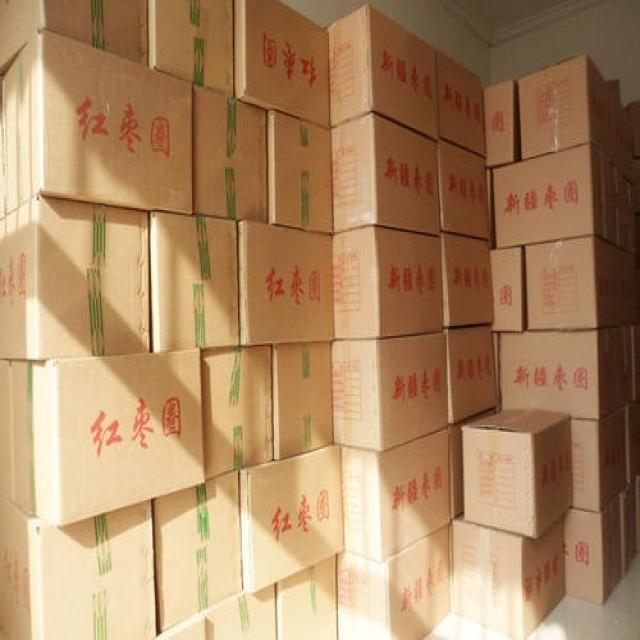box: (0, 29, 193, 217), (13, 350, 206, 527), (0, 196, 148, 360), (0, 492, 156, 640), (239, 444, 343, 594), (328, 3, 438, 140), (340, 427, 449, 561), (463, 410, 575, 539), (155, 469, 242, 631), (453, 517, 566, 640), (332, 333, 448, 451), (330, 113, 440, 236), (335, 526, 451, 640), (493, 142, 617, 247), (148, 212, 239, 352), (334, 225, 444, 338), (234, 0, 330, 128), (238, 218, 333, 346), (518, 53, 616, 166), (1, 0, 147, 73), (526, 236, 639, 329), (500, 329, 617, 418), (195, 85, 268, 222), (201, 346, 273, 480), (147, 0, 233, 96), (269, 109, 333, 234), (273, 341, 333, 461), (566, 497, 621, 604), (572, 406, 626, 510), (436, 49, 486, 155), (275, 556, 338, 640), (445, 326, 497, 425), (443, 232, 495, 326), (438, 142, 488, 237), (204, 585, 278, 640), (483, 79, 520, 167), (490, 247, 526, 333), (609, 79, 634, 179), (0, 358, 14, 500), (618, 483, 636, 575), (616, 167, 636, 249), (614, 328, 632, 408), (151, 614, 206, 640), (449, 423, 463, 517), (626, 401, 640, 483), (630, 326, 640, 398), (486, 171, 495, 244), (494, 333, 499, 410)
